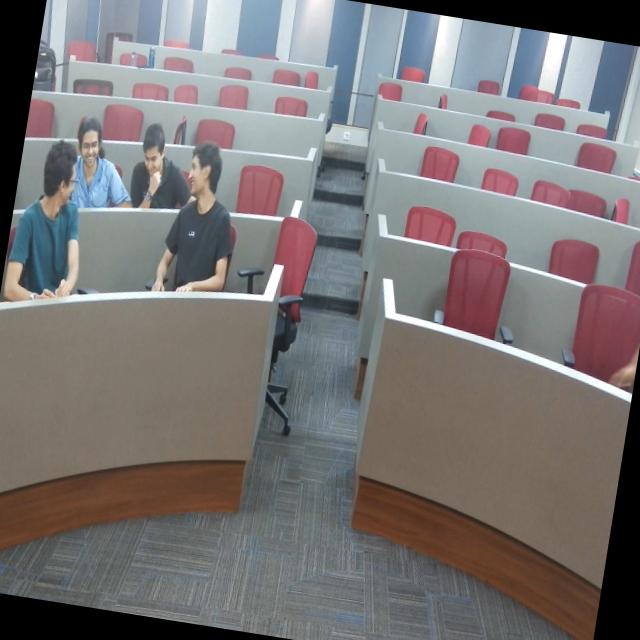cheating: (0, 134, 105, 334), (144, 139, 248, 320), (111, 114, 198, 227), (54, 108, 133, 223)
